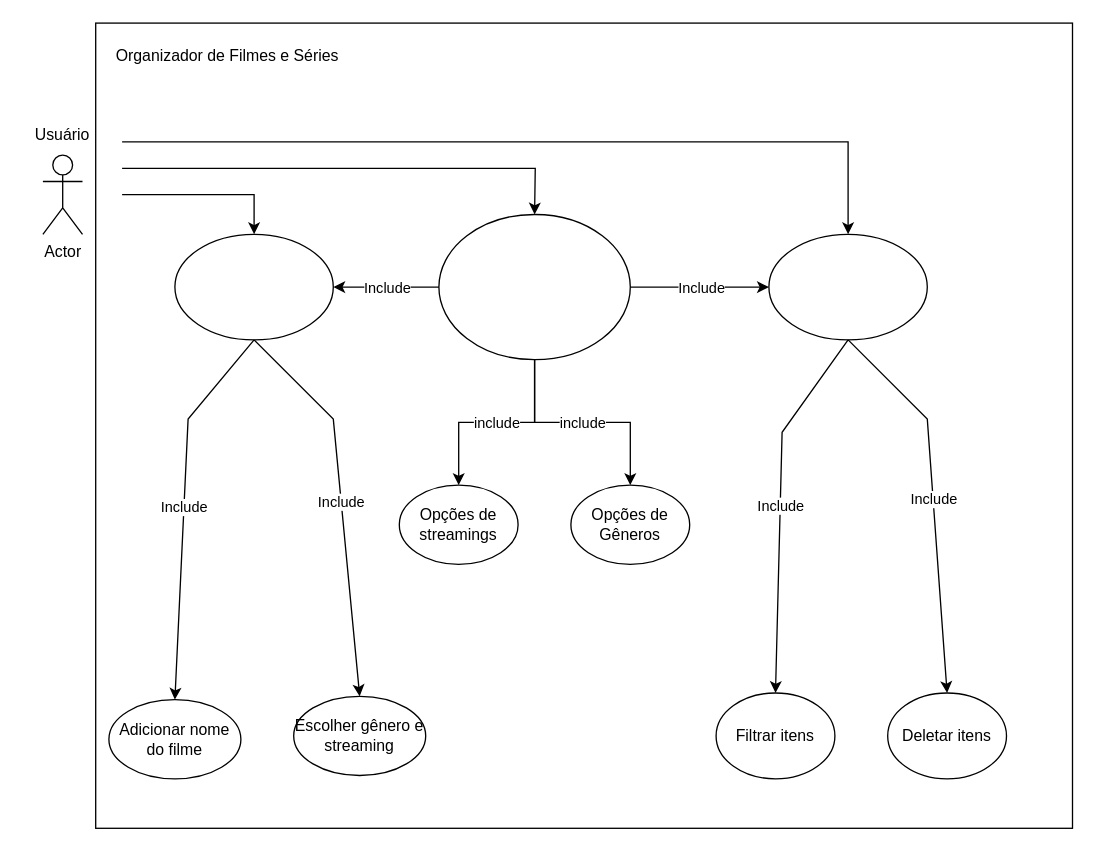
Image size: 1096x851. Some labels were removed from this diagram. The shapes that lost their labels are listed below. From the top down, each one's centre as x and y in pixels, then its label:
At point 253,286: "Adicionar filme".
At point 534,286: "Lista de filmes".
At point 847,286: "Ver lista de filmes".
